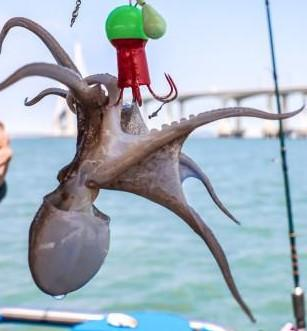Cephalopod: (0, 18, 306, 324)
